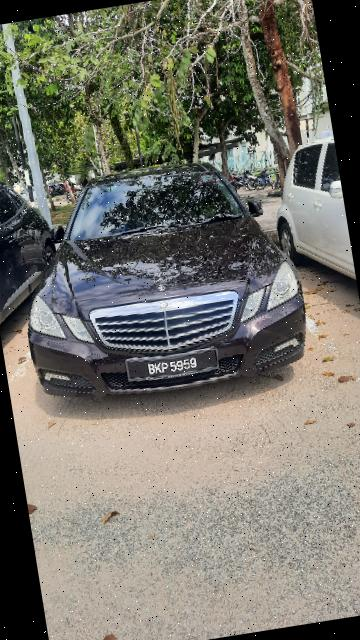License_Plate: (121, 342, 226, 392)
car: (2, 139, 318, 418)
